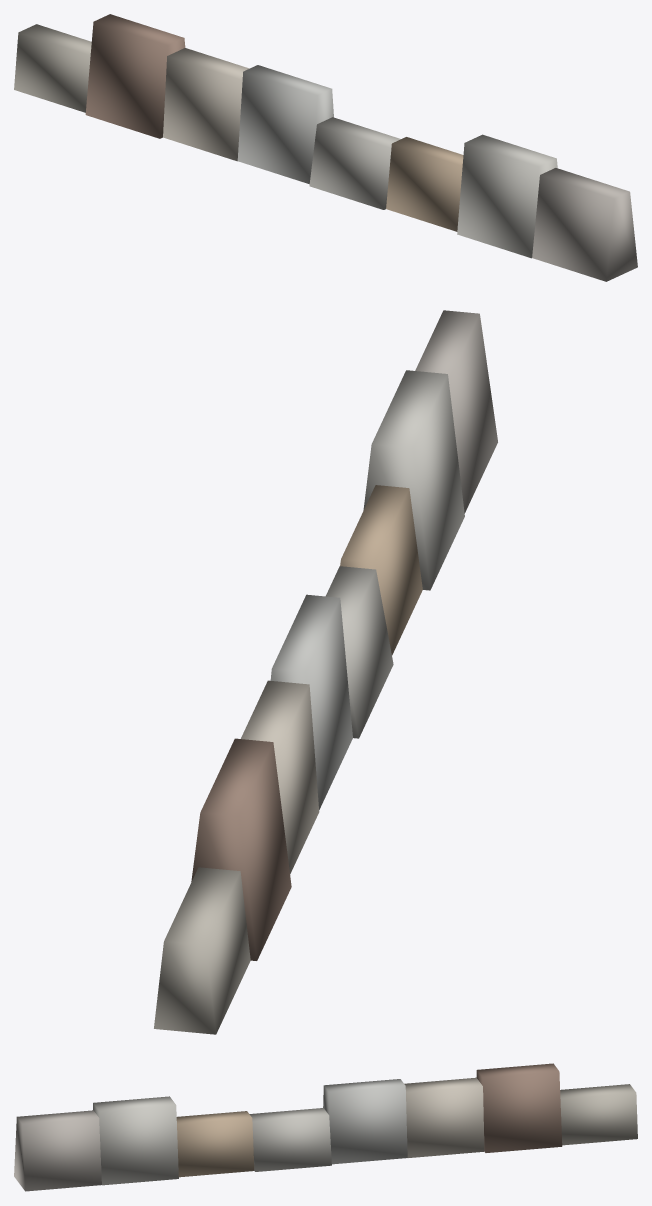
File: farm_-23_-30_collision.glb
3 views of the same model, one above another, from view 1: azimuth 30°, elevation 25°; view 2: azimuth 150°, elevation 25°; view 3: azimuth 270°, elevation 25° (orthographic). The views are drawn at different scales.
Visible parts, largest first — view 1: geometry_0; view 2: geometry_0; view 3: geometry_0.
Part boxes in pixels (x1,y1,x2,y2): geometry_0: (14,14,637,281); geometry_0: (154,310,497,1034); geometry_0: (14,1063,637,1191).
Size of the model in its own units: 4.33 by 2.04 by 11.87.
